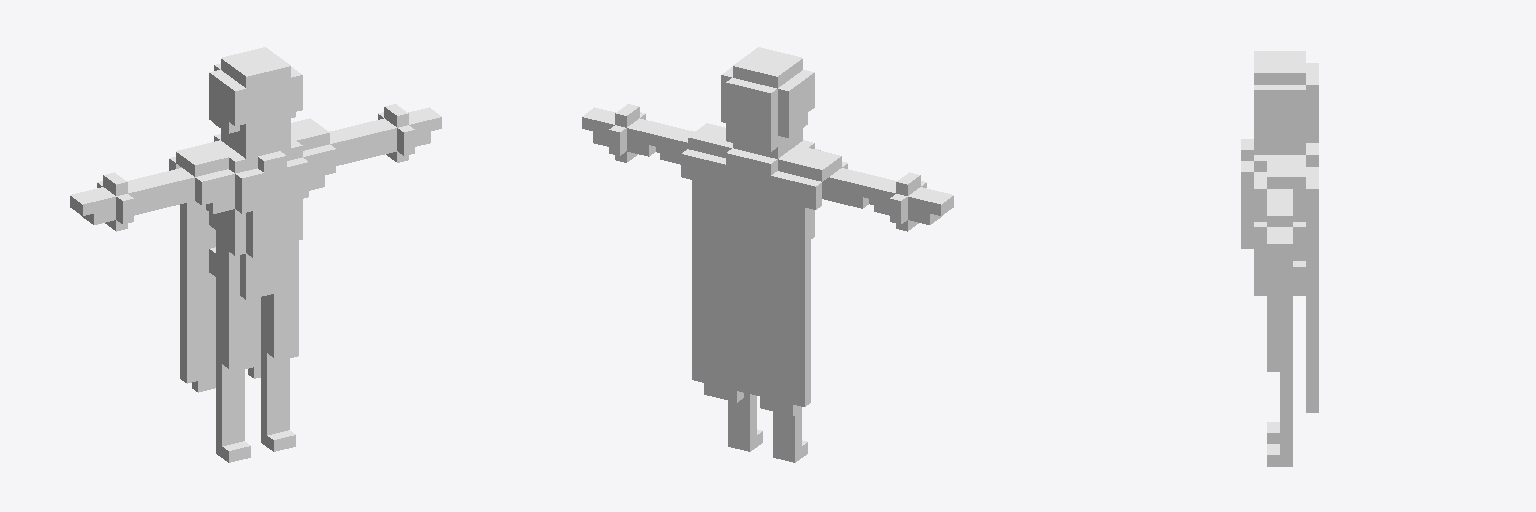
Rendered from Character1.obj.
3 views of the same model, side by side, from view 1: azimuth 30°, elevation 25°; view 2: azimuth 150°, elevation 25°; view 3: azimuth 270°, elevation 25° (orthographic).
Parts seen in each view (by area): view 1: Character_Mesh; view 2: Character_Mesh; view 3: Character_Mesh.
Boxes of the visible parts, x1=… form: Character_Mesh: x1=70, y1=47, x2=441, y2=462; Character_Mesh: x1=582, y1=47, x2=953, y2=462; Character_Mesh: x1=1241, y1=51, x2=1318, y2=466.
Size of the model in its own units: 7.56 by 7.8 by 1.42.